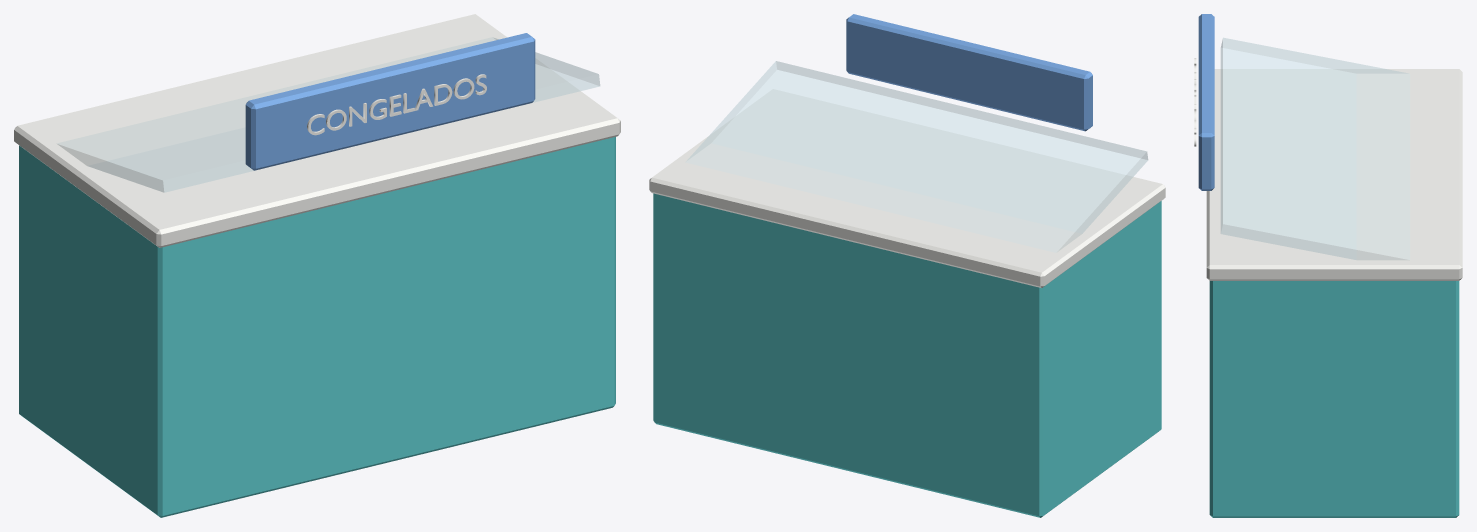
File: Congelador.fbx
3 views of the same model, side by side, from view 1: azimuth 30°, elevation 25°; view 2: azimuth 150°, elevation 25°; view 3: azimuth 270°, elevation 25° (orthographic). The views are drawn at different scales.
Visible parts, largest first — view 1: Congelador | Carcasa congelador, Congelador | Borde, Congelador | Letrero congelador, Congelador | Tapa cristal, Congelador | Texto congelador; view 2: Congelador | Carcasa congelador, Congelador | Borde, Congelador | Tapa cristal, Congelador | Letrero congelador; view 3: Congelador | Carcasa congelador, Congelador | Borde, Congelador | Tapa cristal, Congelador | Letrero congelador.
Part boxes in pixels (x1,y1,x2,y2): Congelador | Carcasa congelador: (19, 137, 615, 517); Congelador | Borde: (14, 14, 620, 247); Congelador | Letrero congelador: (245, 33, 535, 170); Congelador | Tapa cristal: (57, 37, 600, 192); Congelador | Texto congelador: (307, 74, 486, 135); Congelador | Carcasa congelador: (653, 193, 1161, 517); Congelador | Borde: (649, 89, 1165, 287); Congelador | Tapa cristal: (685, 61, 1148, 252); Congelador | Letrero congelador: (846, 14, 1092, 131); Congelador | Carcasa congelador: (1209, 281, 1459, 517); Congelador | Borde: (1206, 69, 1462, 280); Congelador | Tapa cristal: (1220, 37, 1409, 259); Congelador | Letrero congelador: (1198, 14, 1214, 190).
Size of the model in its own units: 1.47 by 1.2 by 0.838.
